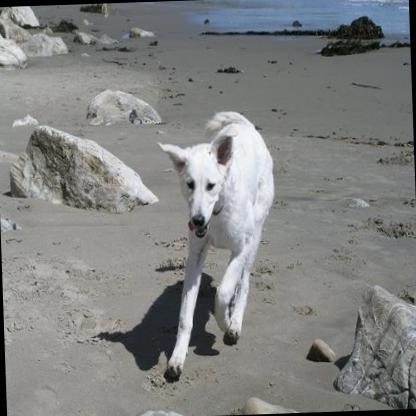kuvasz: (154, 108, 284, 386)
